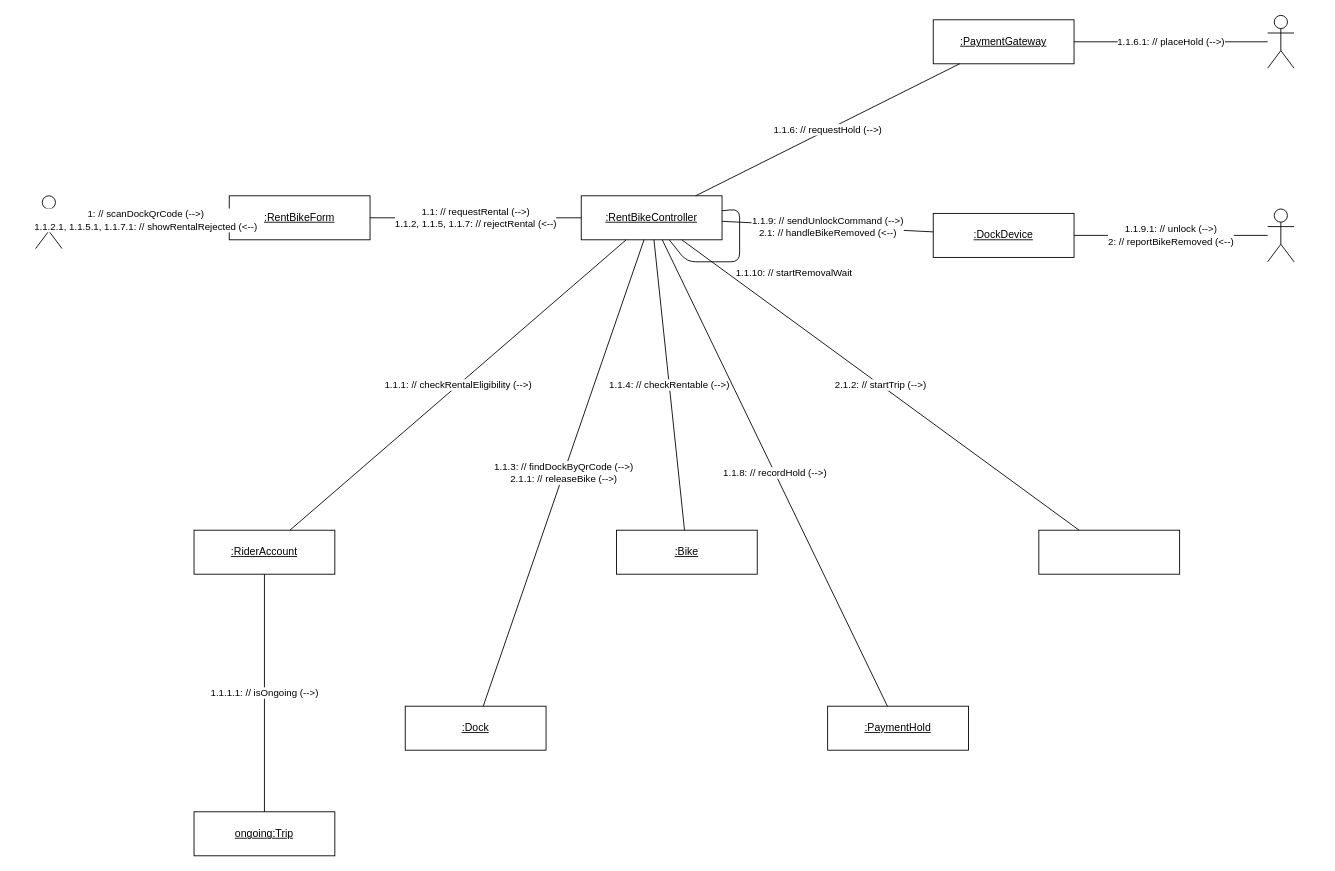
Image size: 1335x871. Some labels were removed from this diagram. Each missing label, with the centre of its shape:
Cổng thanh toán: point 1280,41
Người thuê xe: point 48,222
trip:Trip: point 1109,551
Ụ khoá: point 1280,235
